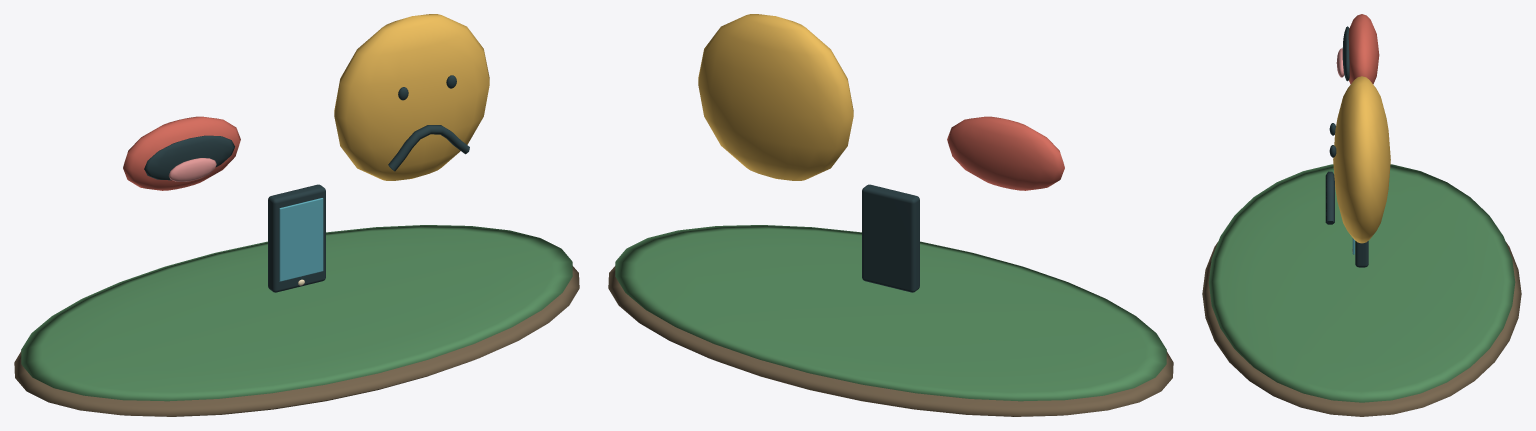
File: complete-first-phone-hello.glb
3 renders of one model, left to right at view 1: azimuth 30°, elevation 25°; view 2: azimuth 150°, elevation 25°; view 3: azimuth 270°, elevation 25°, orthographic. The views are drawn at different scales.
Parts seen in each view (by area): view 1: complete-first-phone-hello_surface_01, complete-first-phone-hello_surface_05, complete-first-phone-hello_surface_00, complete-first-phone-hello_surface_03, complete-first-phone-hello_surface_02, complete-first-phone-hello_surface_06, complete-first-phone-hello_surface_04; view 2: complete-first-phone-hello_surface_01, complete-first-phone-hello_surface_05, complete-first-phone-hello_surface_00, complete-first-phone-hello_surface_02, complete-first-phone-hello_surface_03; view 3: complete-first-phone-hello_surface_01, complete-first-phone-hello_surface_05, complete-first-phone-hello_surface_00, complete-first-phone-hello_surface_02, complete-first-phone-hello_surface_03.
Boxes of the visible parts, box(x1,y1,x2,y2) form: complete-first-phone-hello_surface_01: box(21, 225, 572, 401); complete-first-phone-hello_surface_05: box(334, 14, 489, 180); complete-first-phone-hello_surface_00: box(14, 266, 579, 416); complete-first-phone-hello_surface_03: box(144, 75, 469, 292); complete-first-phone-hello_surface_02: box(123, 116, 240, 190); complete-first-phone-hello_surface_06: box(279, 198, 323, 281); complete-first-phone-hello_surface_04: box(168, 158, 216, 181); complete-first-phone-hello_surface_01: box(615, 225, 1166, 401); complete-first-phone-hello_surface_05: box(698, 14, 853, 180); complete-first-phone-hello_surface_00: box(608, 266, 1173, 416); complete-first-phone-hello_surface_02: box(947, 116, 1064, 190); complete-first-phone-hello_surface_03: box(862, 184, 919, 292); complete-first-phone-hello_surface_01: box(1208, 164, 1515, 402); complete-first-phone-hello_surface_05: box(1333, 76, 1390, 243); complete-first-phone-hello_surface_00: box(1202, 241, 1521, 416); complete-first-phone-hello_surface_02: box(1348, 14, 1379, 84); complete-first-phone-hello_surface_03: box(1325, 26, 1368, 267).
Size of the model in its own units: 4.56 by 2.4 by 2.5.
